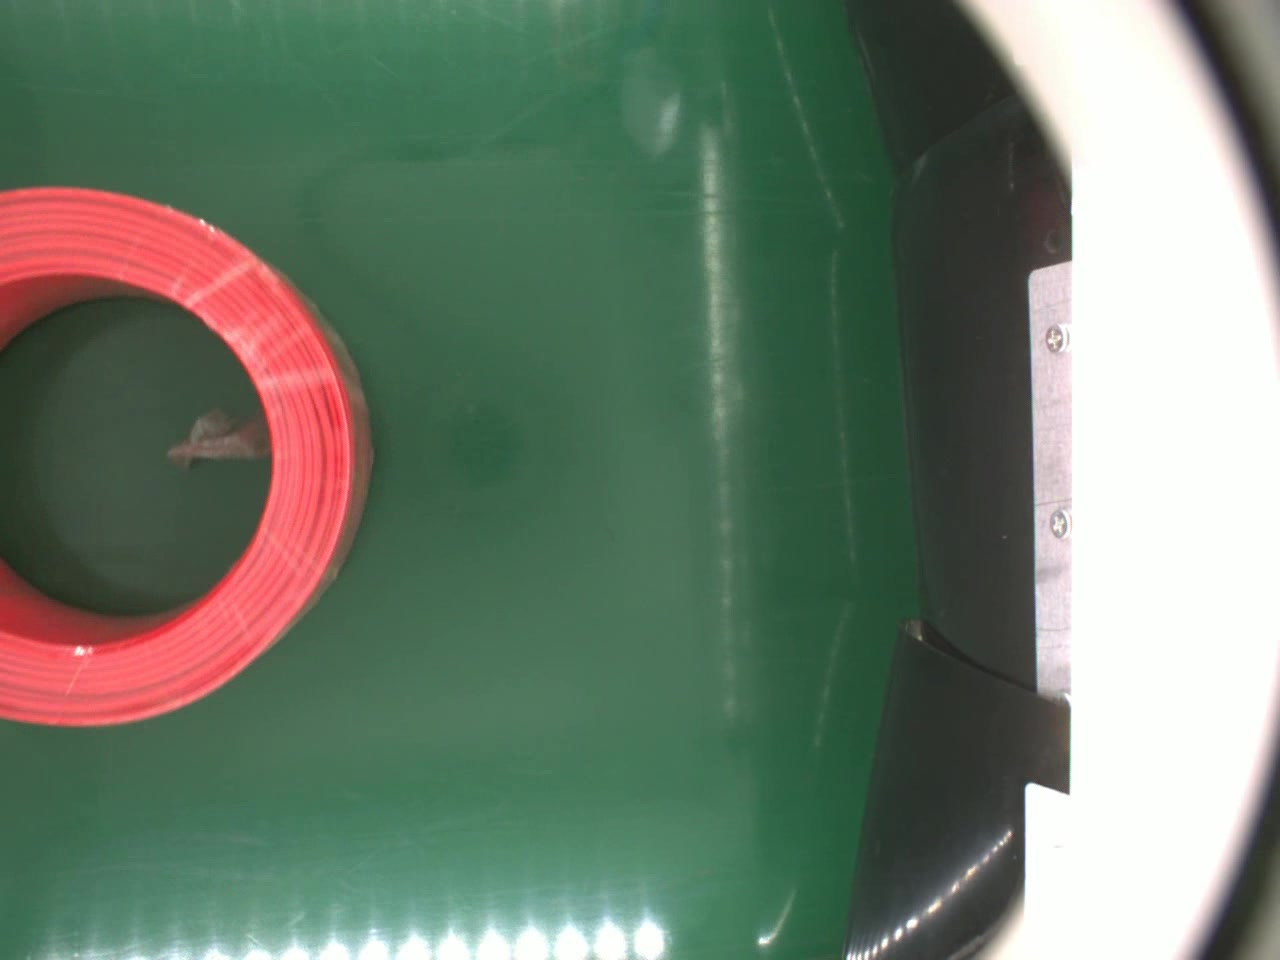red: (0, 176, 376, 734)
